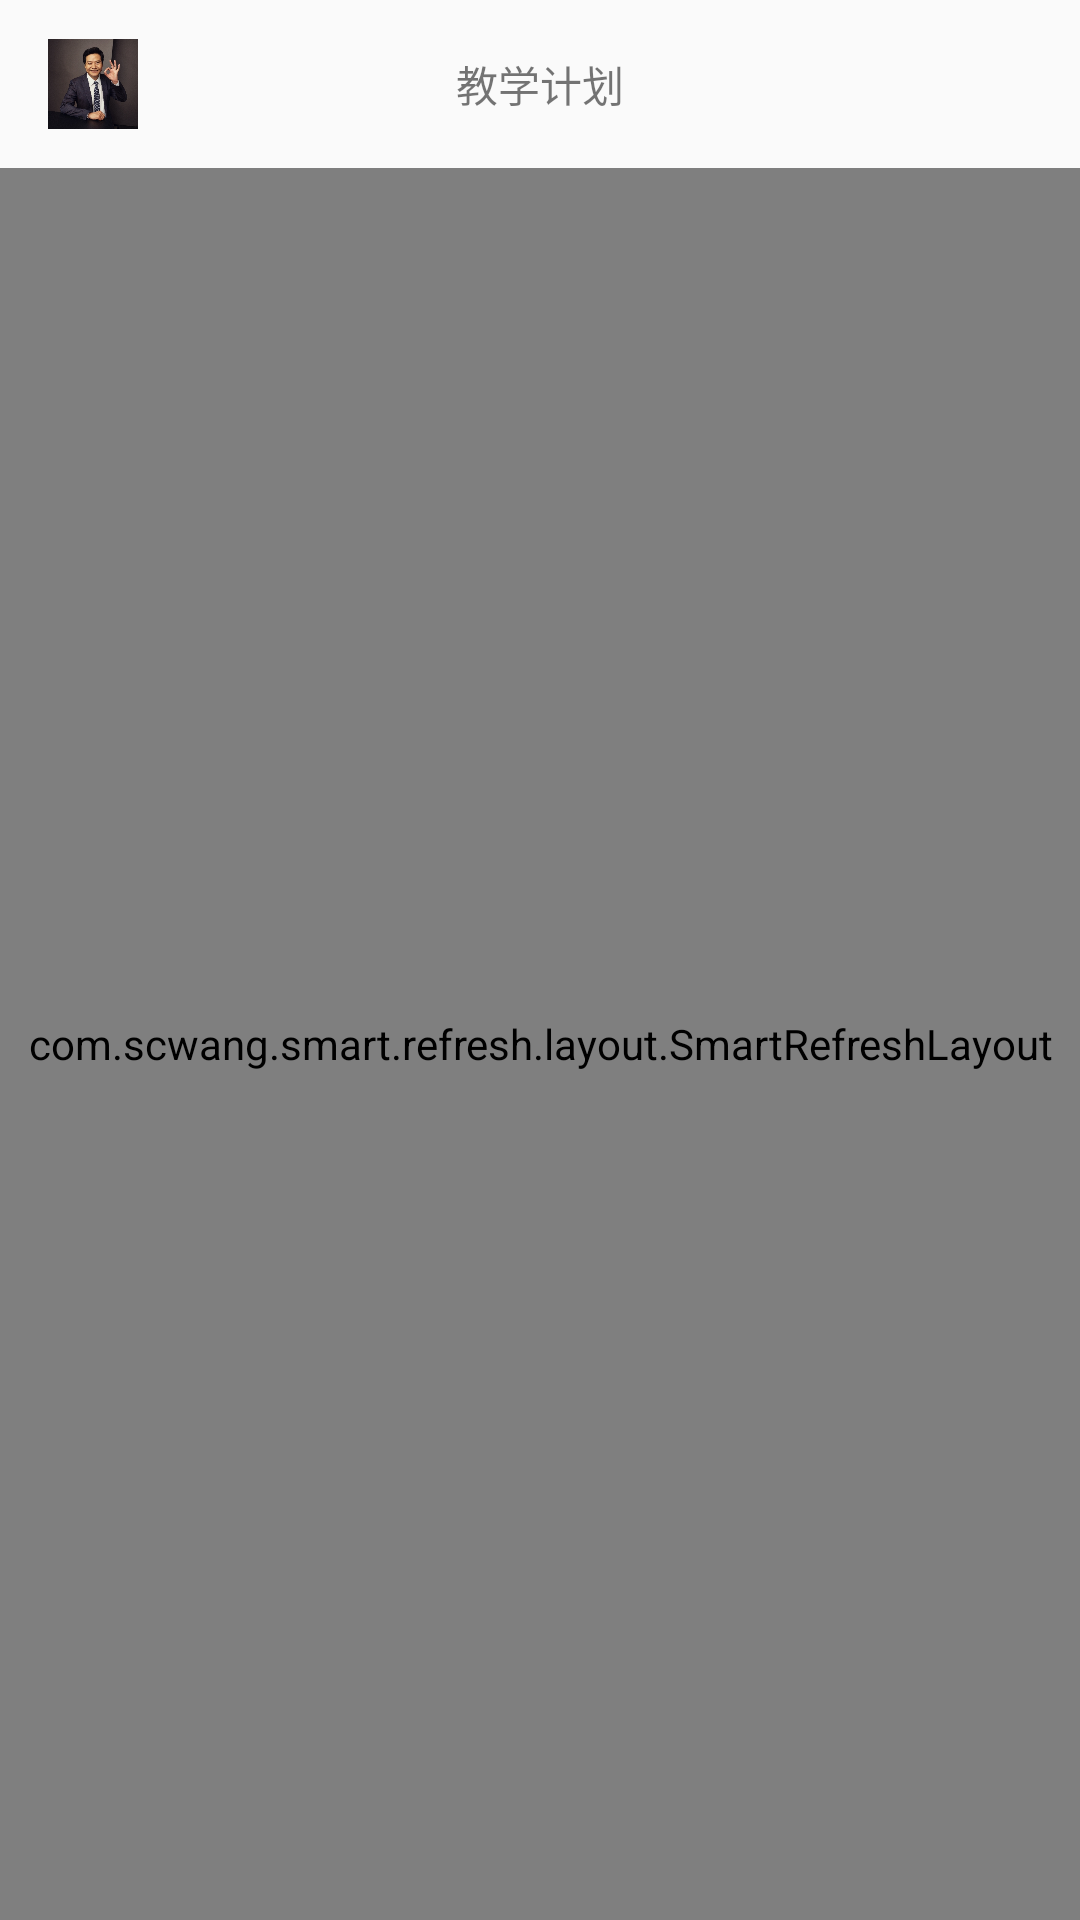

Locate icon controls on the screen. Image size 1080×1920, boxes as bbox(x1, y1, x2, y2).
head: bbox(48, 39, 138, 129)
